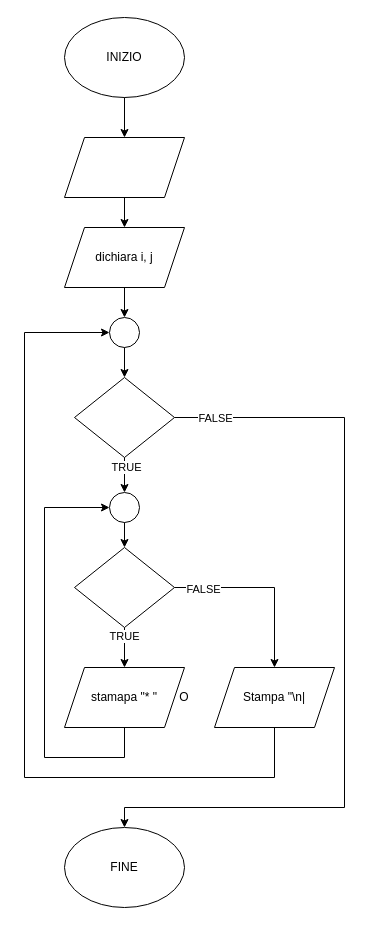
Some shapes in this 370 by 925 pixel diagram are drawn without their labels. The shapes that lost their labels are listed below. From the top down, each one's centre as x and y in pixels, then its label:
At point 124,167: "leggi a leggi b".
At point 124,417: "i = 0; i < a; i++".
At point 124,587: "j = 0; j<b; j++".
